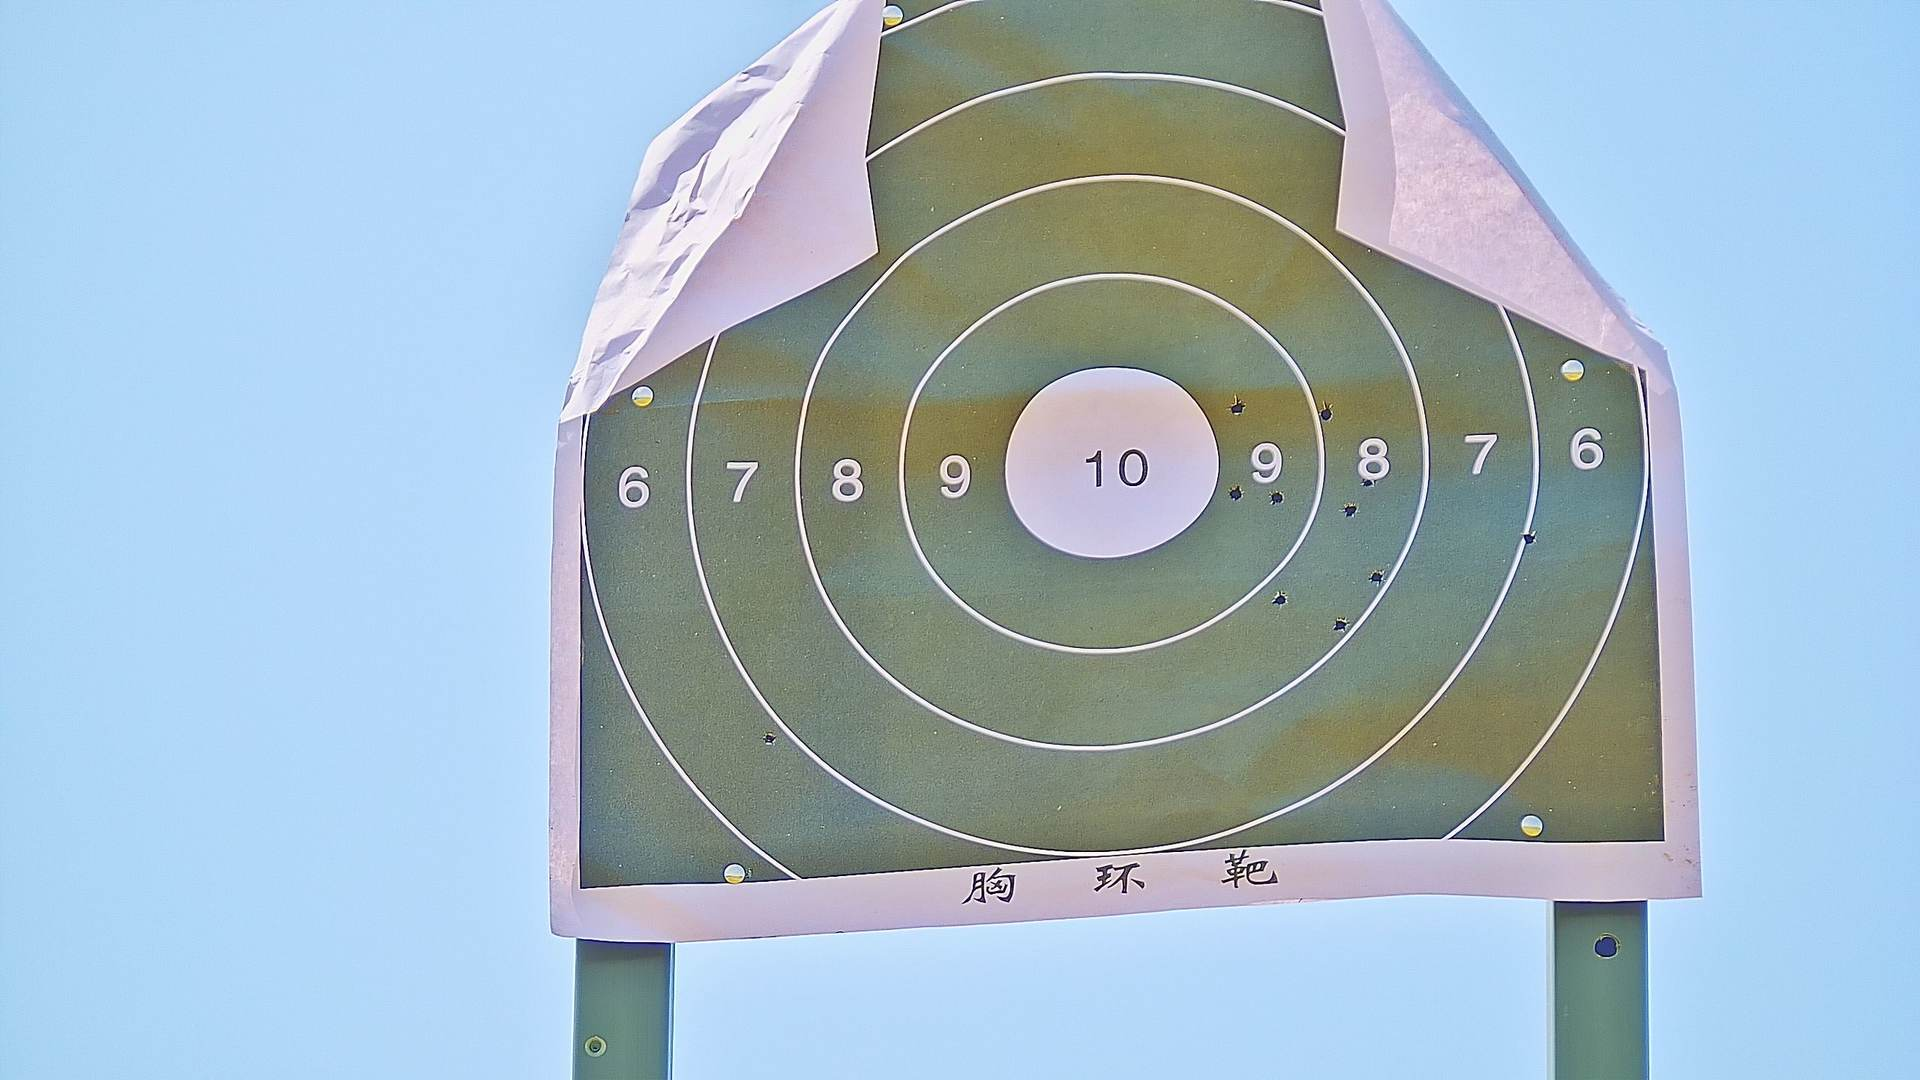hole: (1522, 530, 1538, 549), (1230, 400, 1246, 414), (1230, 485, 1245, 500), (1370, 570, 1385, 584), (1320, 406, 1333, 422), (1273, 589, 1284, 607), (1342, 502, 1357, 516), (1335, 616, 1348, 630), (1270, 491, 1283, 502), (1362, 475, 1375, 487), (764, 732, 773, 744)
kernel: (1109, 469, 1112, 473)
target: (584, 1, 1663, 891)
ten: (1004, 365, 1218, 562)
